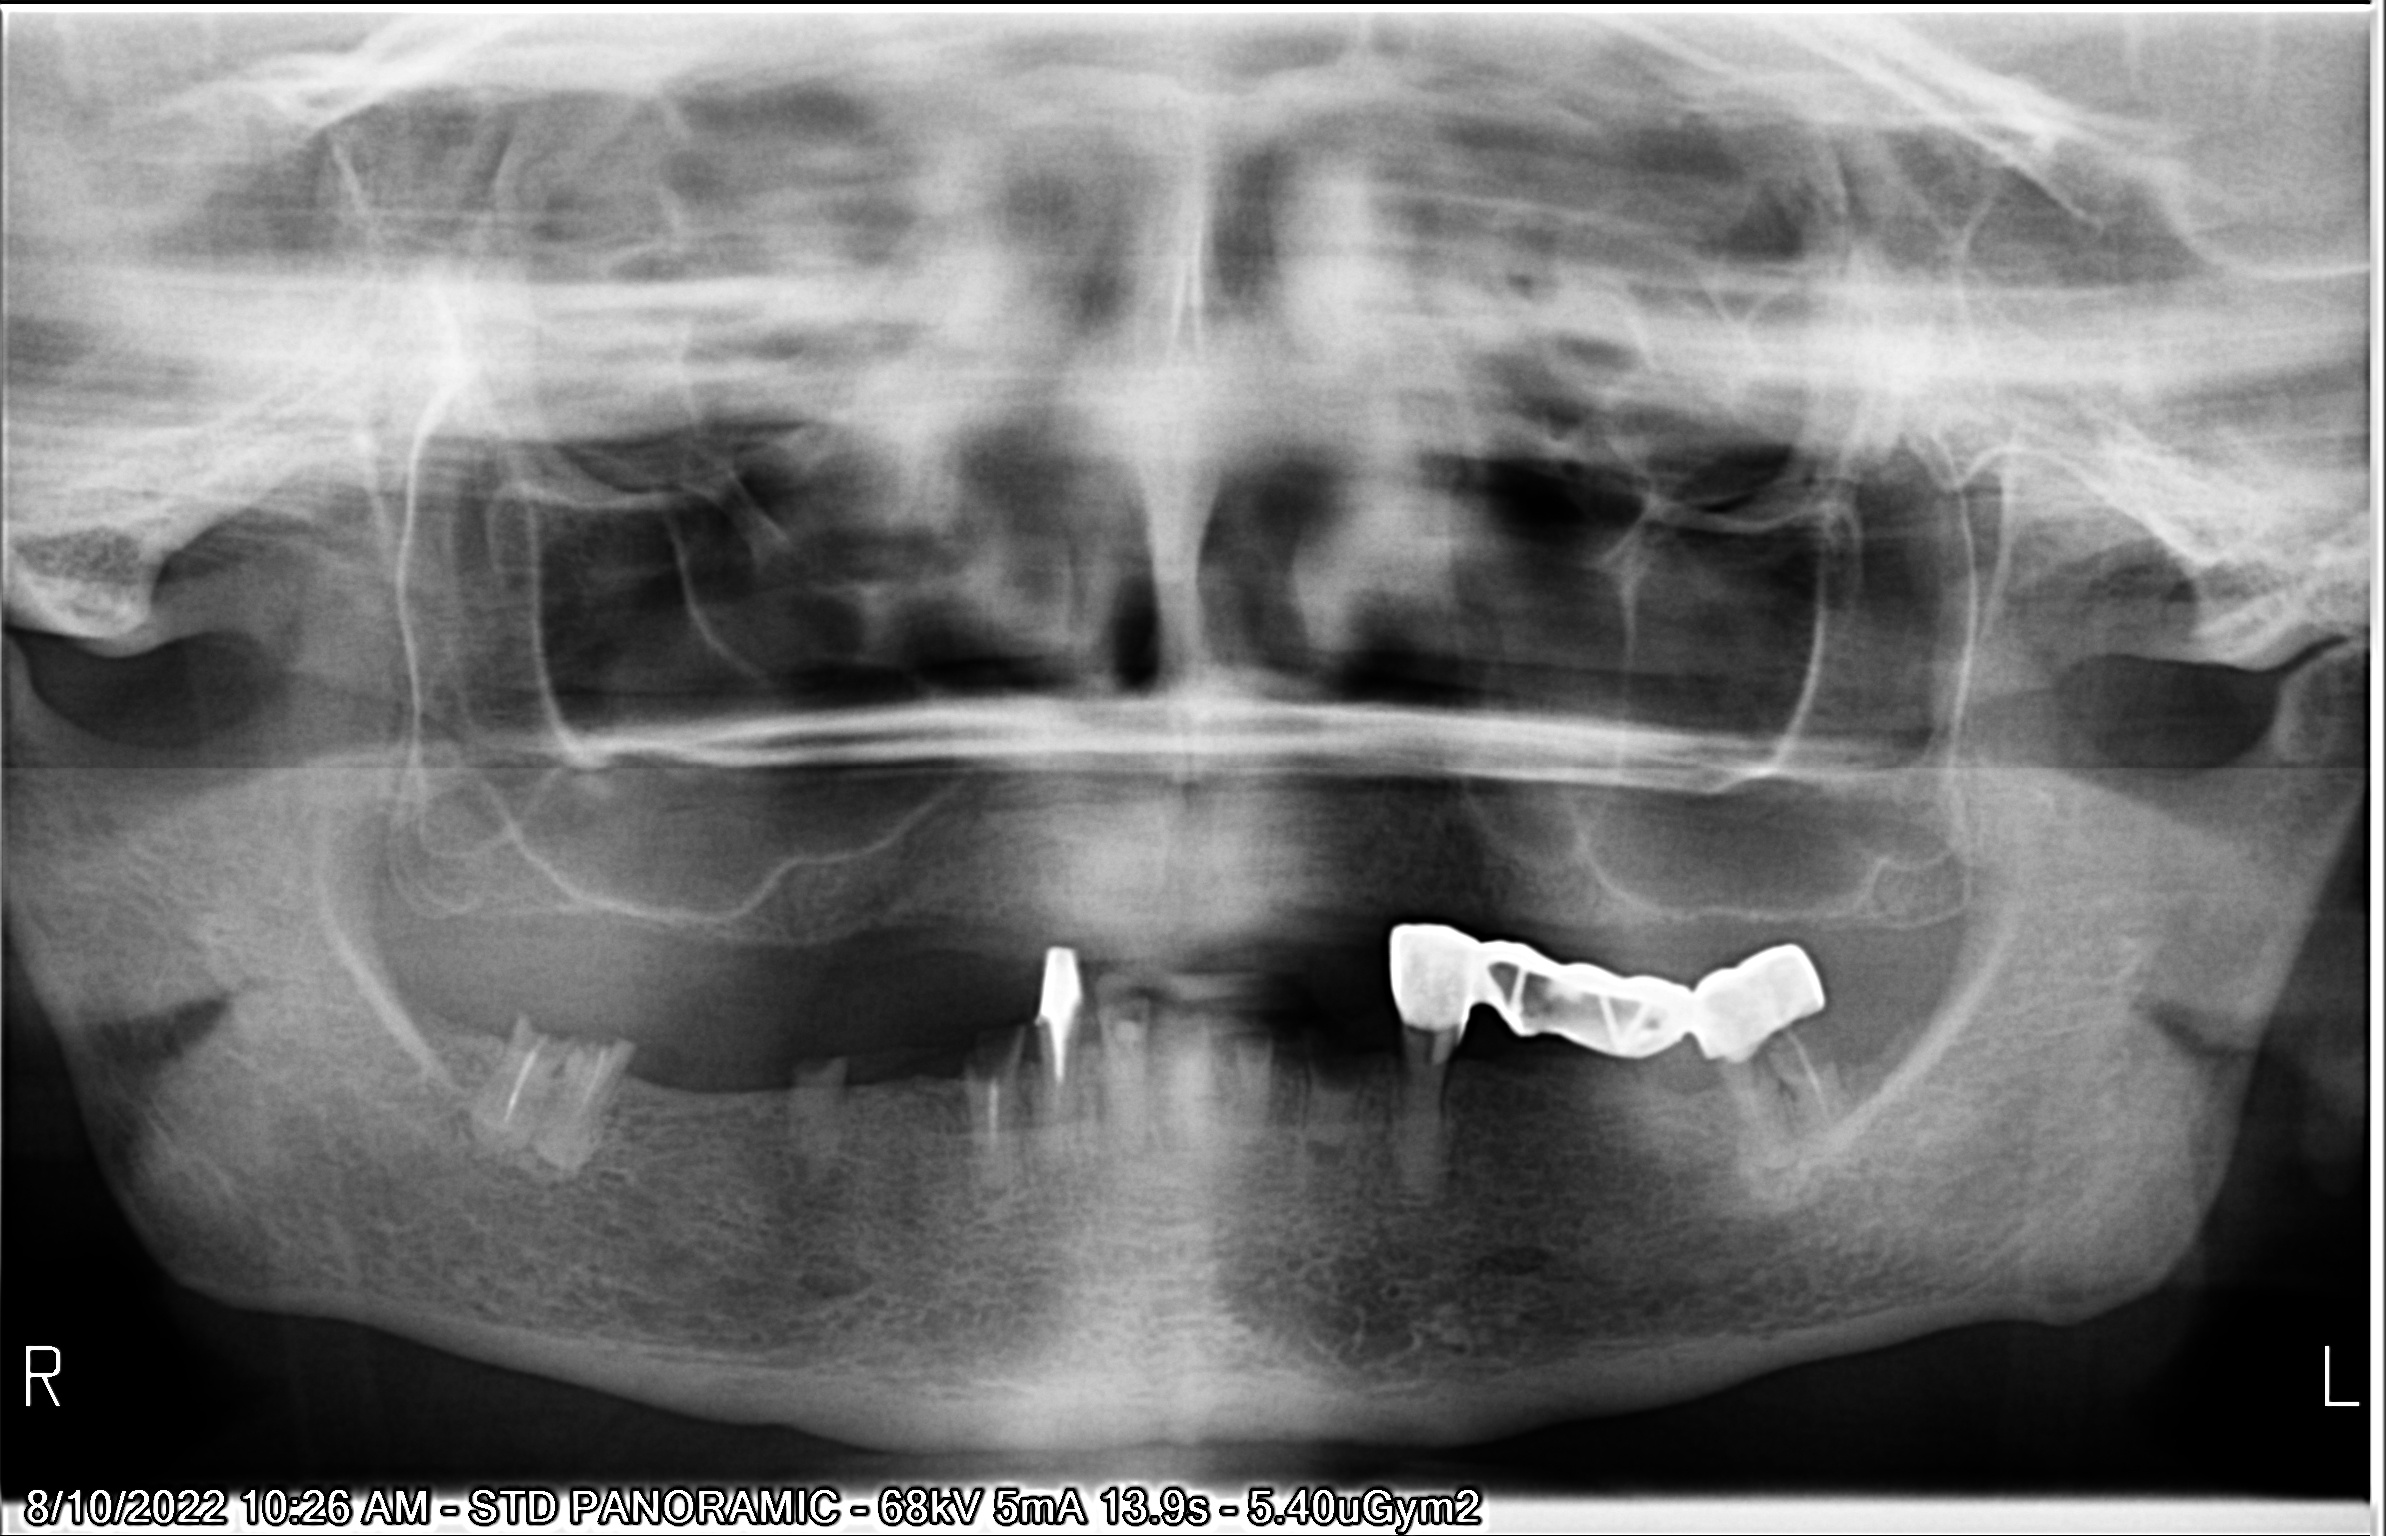END: (1038, 997, 1083, 1157), (1751, 1033, 1833, 1117)
OBT: (1028, 932, 1099, 1016)
PRR: (1383, 915, 1828, 1061)
ROT: (468, 1018, 626, 1179), (955, 1028, 1028, 1200), (1151, 1005, 1219, 1167), (1090, 997, 1153, 1169), (1294, 1045, 1367, 1164), (784, 1056, 850, 1186), (1224, 1032, 1280, 1150)
